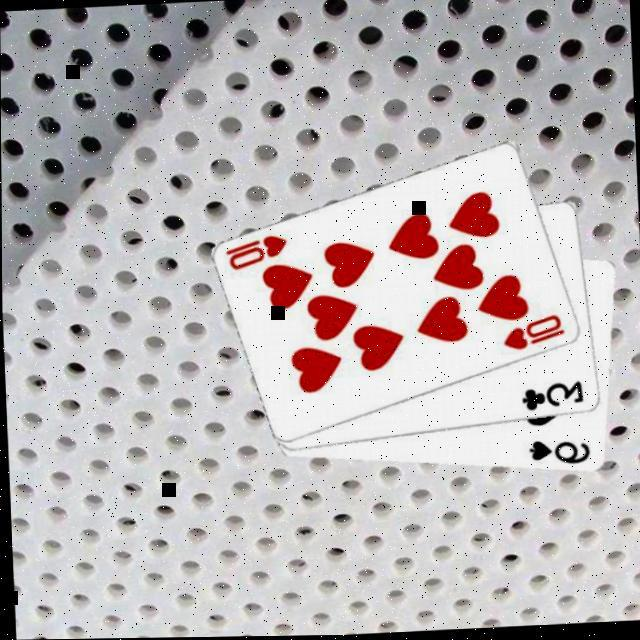10H: (498, 314, 566, 356), (221, 234, 289, 276)
3C: (518, 382, 584, 417)
6S: (523, 439, 591, 472)
